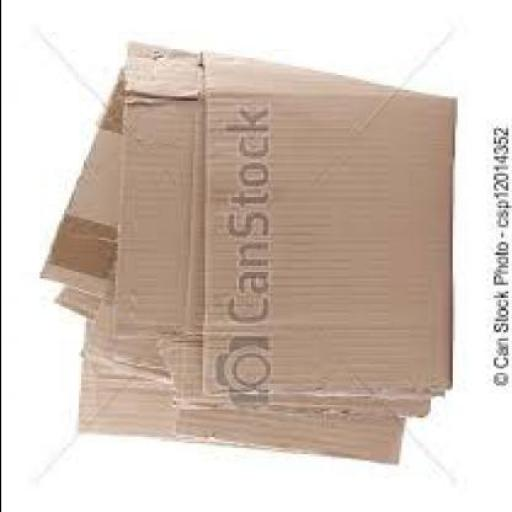cardboard: (167, 62, 427, 420), (196, 56, 454, 402), (73, 330, 400, 463), (102, 45, 208, 386), (36, 72, 122, 328)
